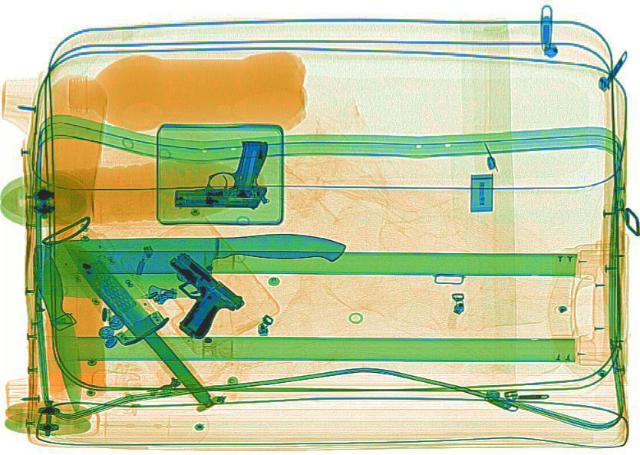Gun: (122, 251, 256, 340), (172, 139, 268, 209)
Knife: (52, 234, 216, 401), (30, 231, 344, 299), (26, 241, 90, 409)
